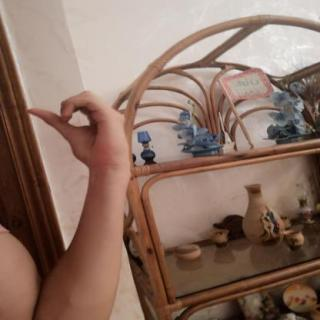WAW: (17, 83, 139, 177)
